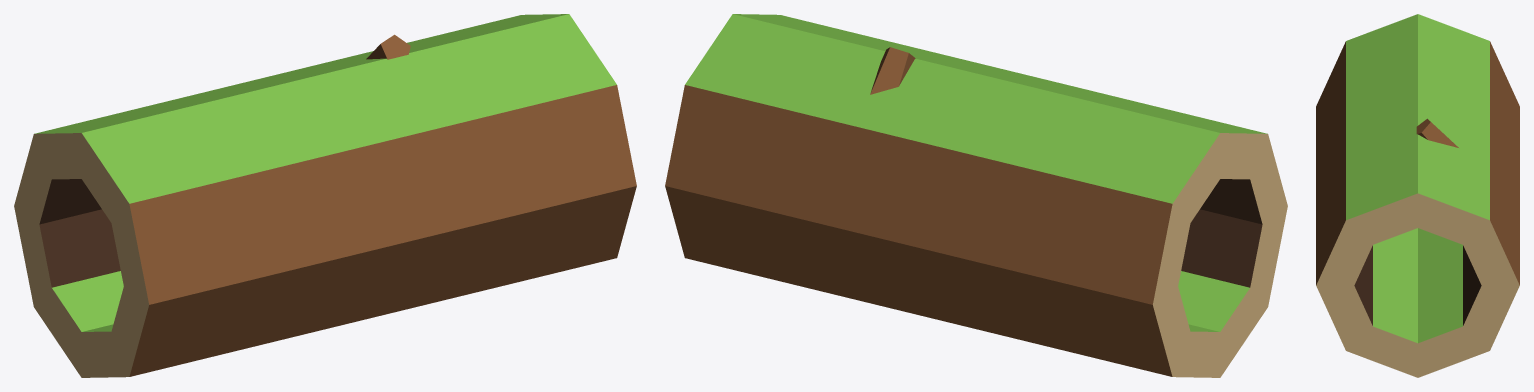
Rendered from log_large.glb.
3 views of the same model, side by side, from view 1: azimuth 30°, elevation 25°; view 2: azimuth 150°, elevation 25°; view 3: azimuth 270°, elevation 25° (orthographic). The views are drawn at different scales.
Visible parts, largest first — view 1: log_large; view 2: log_large; view 3: log_large.
Boxes of the visible parts, x1,y1,x2,y2 form: log_large: [14, 14, 636, 377]; log_large: [665, 14, 1287, 377]; log_large: [1316, 14, 1519, 377].
Bounding box in the file's own units: 1 × 0.5069 × 0.48.
Materials: 1 (1 with a texture image).
